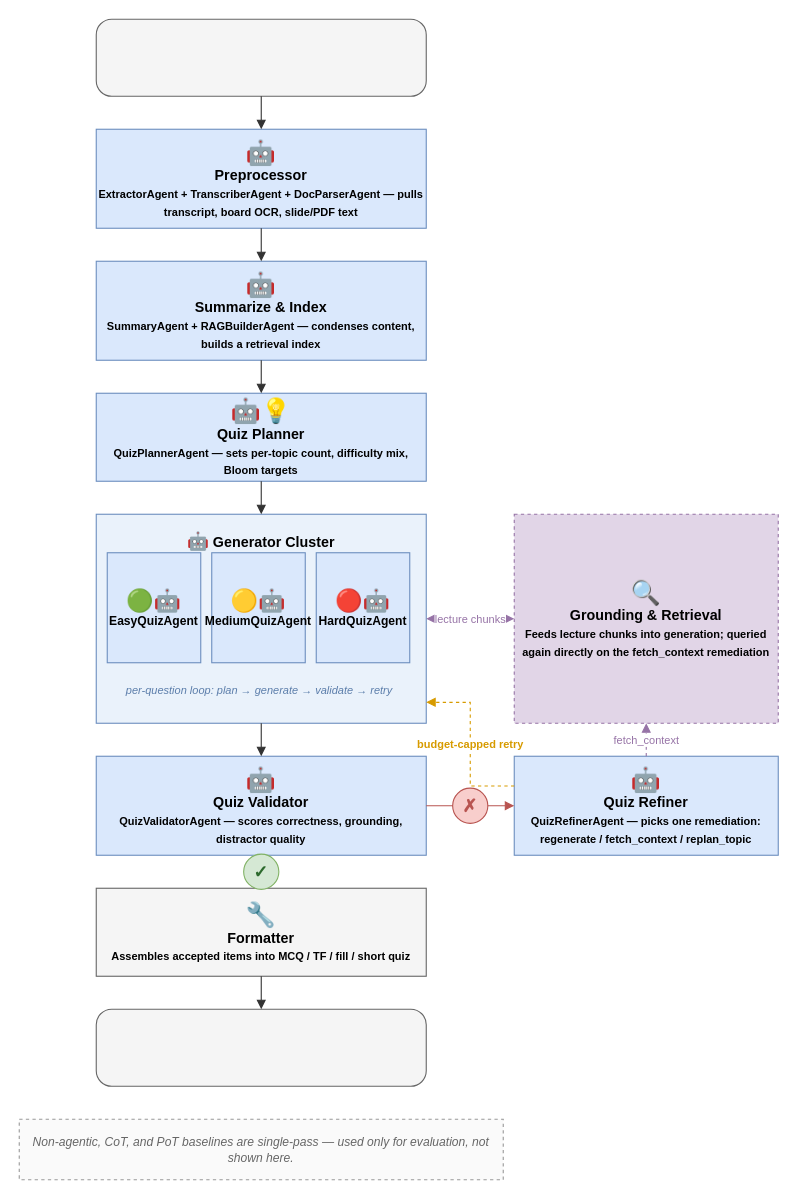
Image size: 798x1199. Some labels were removed from this diagram. The centre of each missing label's shape, as x and y in pixels:
"🧑 Learner (Input) Uploads a lecture video, slide deck, or PDF" goes at [260,57].
"🧑 Learner (Output) Receives the adaptive quiz" goes at [260,1047].
